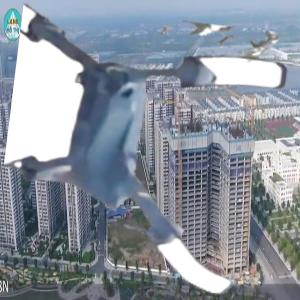drone: (7, 17, 291, 300)
